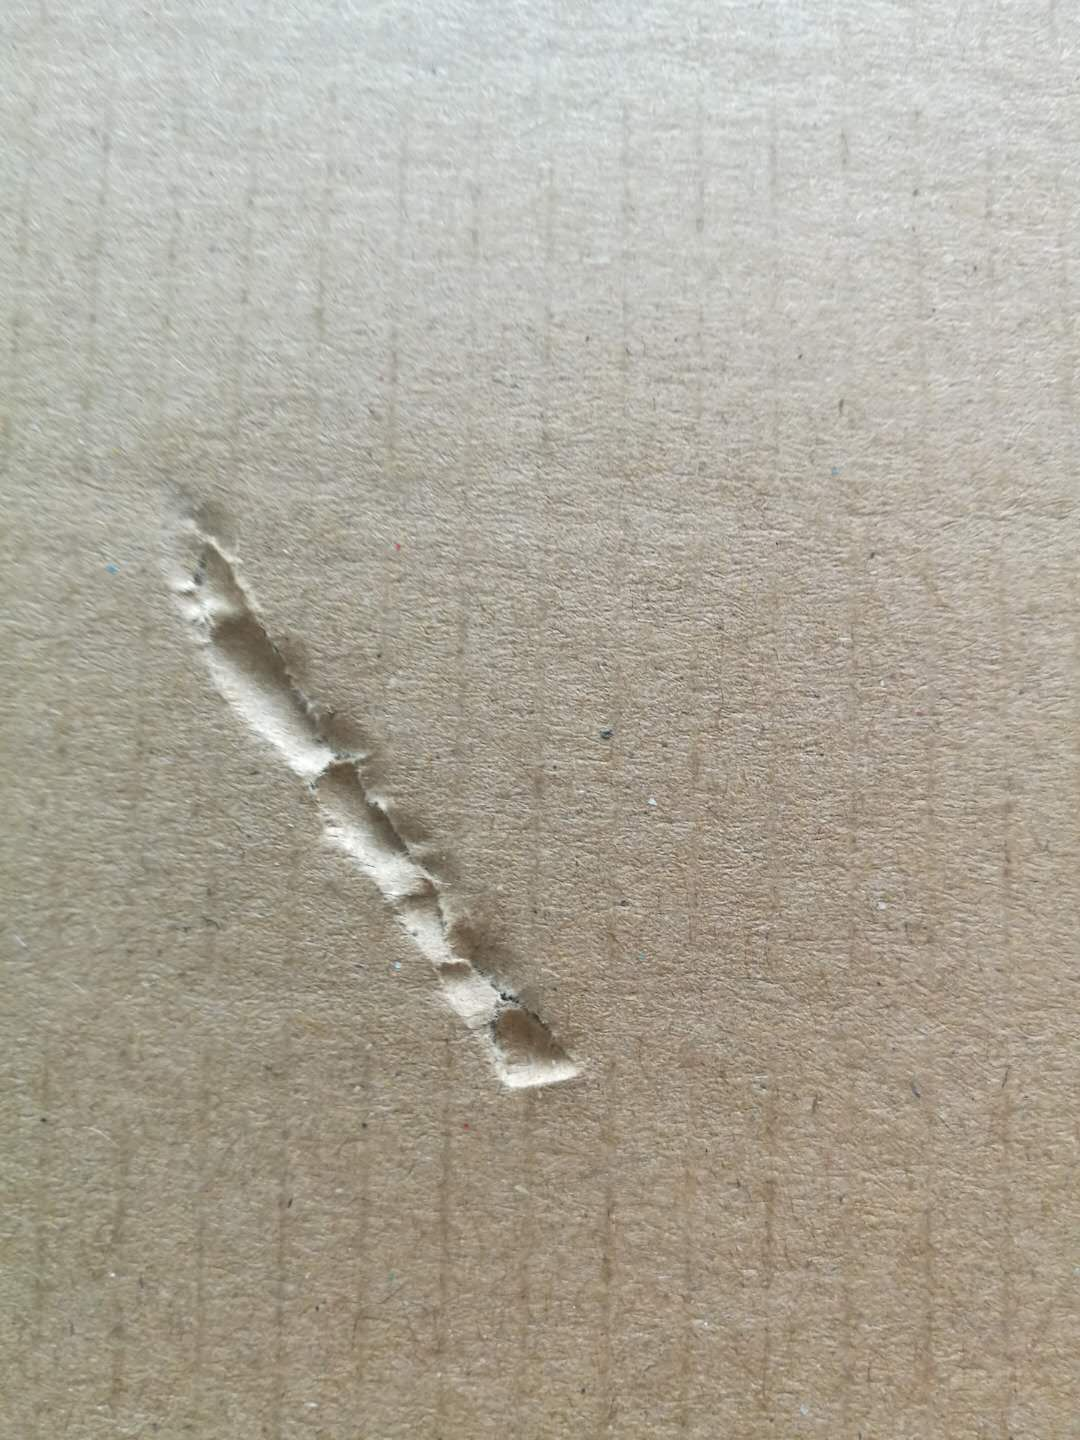defect: (134, 461, 635, 1130)
